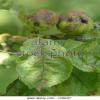Apple Scab Leaf: (16, 36, 76, 92), (66, 39, 99, 69)
